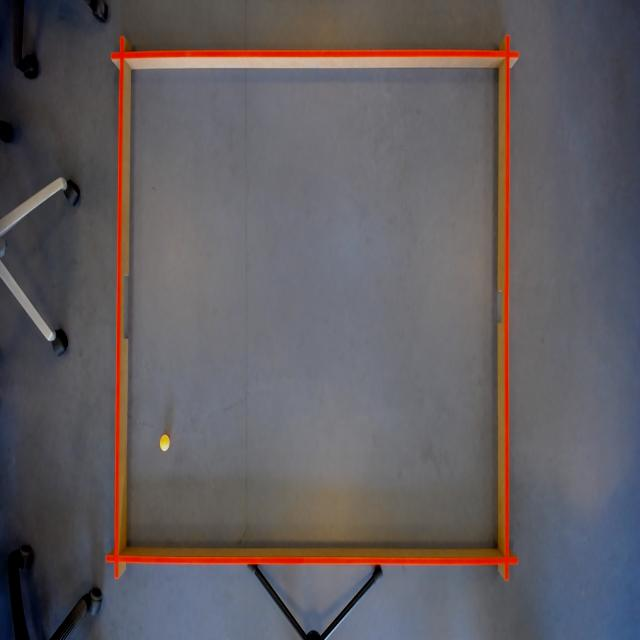orange_ball: (160, 433, 170, 454)
